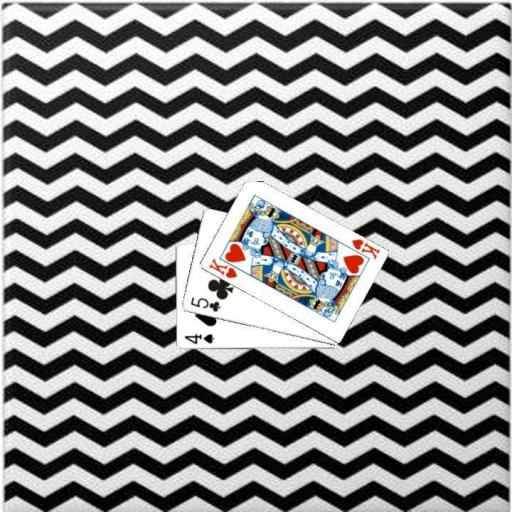card-corner: (206, 255, 238, 280), (349, 236, 381, 261), (187, 294, 221, 314), (181, 330, 215, 346)
